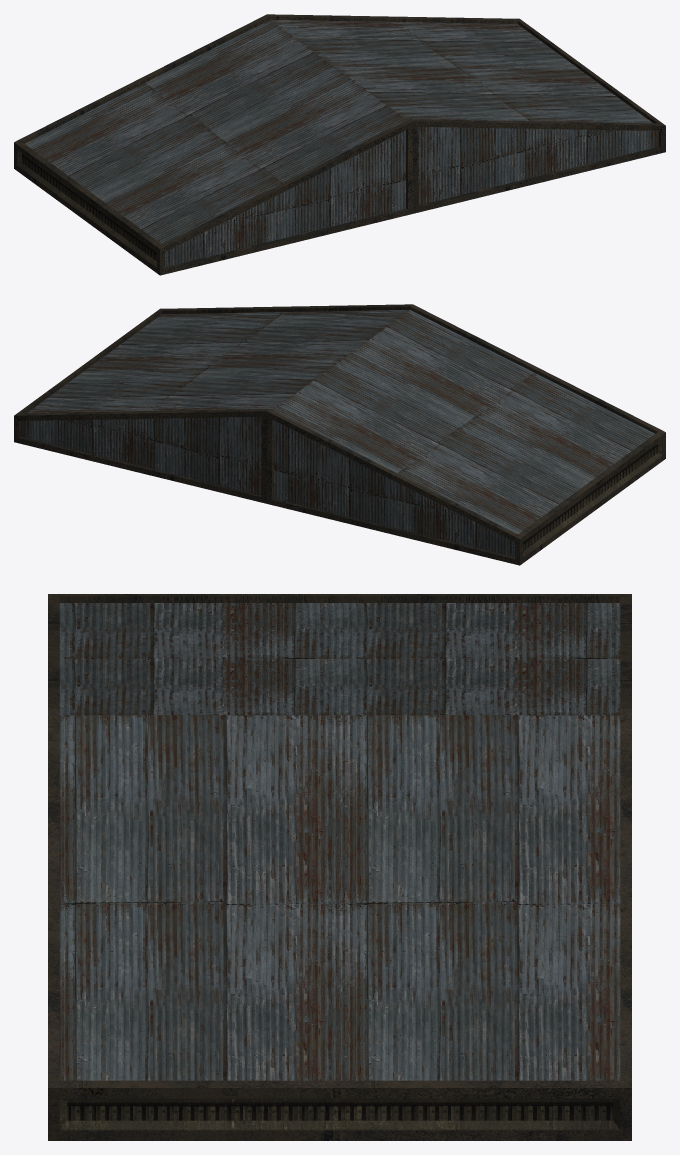
The model's file is roof_mh_3.glb.
3 views of the same model, one above another, from view 1: azimuth 30°, elevation 25°; view 2: azimuth 150°, elevation 25°; view 3: azimuth 270°, elevation 25° (orthographic). The views are drawn at different scales.
Parts seen in each view (by area): view 1: roof_mh_3; view 2: roof_mh_3; view 3: roof_mh_3.
Part boxes in pixels (x1,y1,x2,y2): roof_mh_3: (14, 14, 665, 275); roof_mh_3: (14, 304, 665, 565); roof_mh_3: (48, 594, 631, 1140).
Bounding box in the file's own units: 8 × 1.4 × 4.
Materials: 6 (6 with a texture image).
